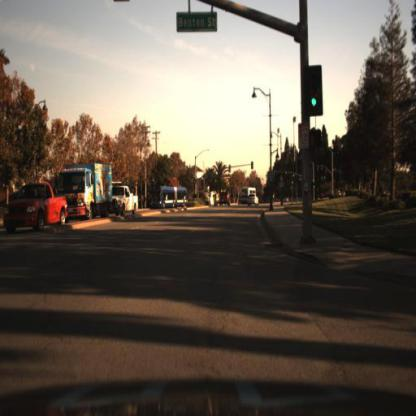car: (5, 183, 70, 236), (112, 185, 139, 221), (237, 188, 258, 208), (217, 189, 233, 210), (247, 193, 263, 208), (247, 194, 259, 210)
truck: (60, 164, 113, 224), (155, 186, 190, 212)
